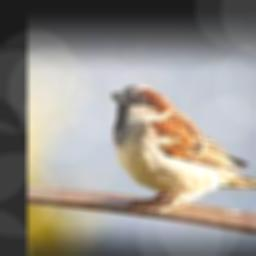Sparrow: (110, 85, 256, 213)
